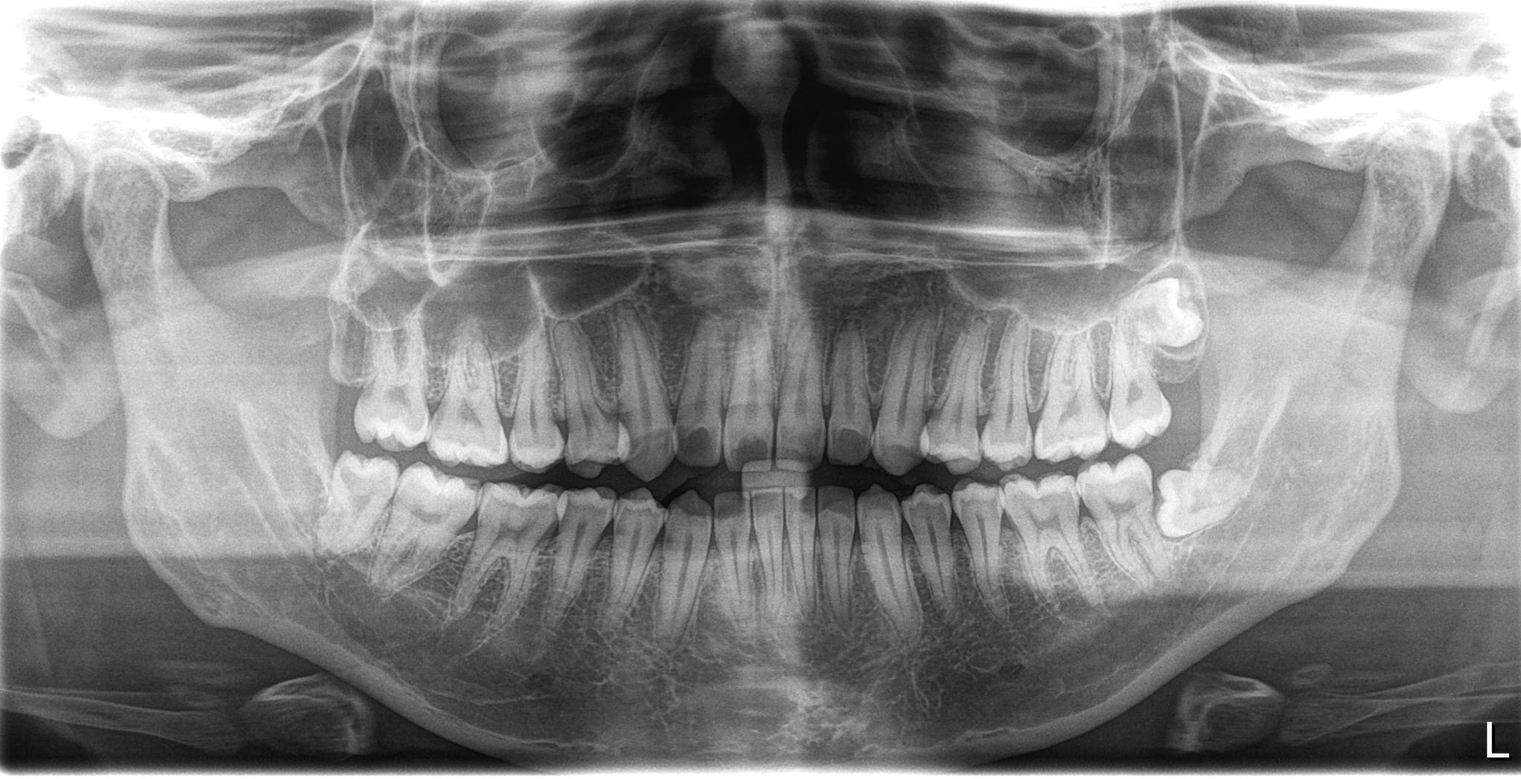Impacted Third Molar: (1151, 454, 1260, 560), (1103, 282, 1222, 358)
